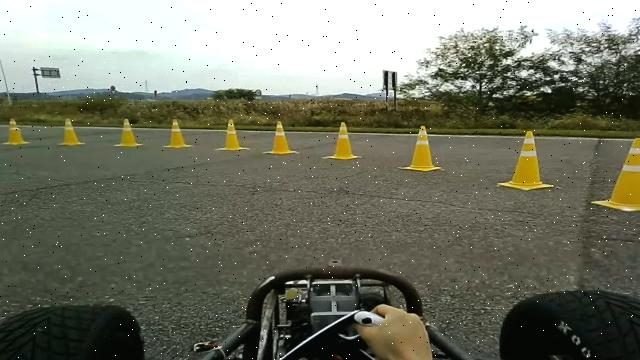yellow cone: (590, 137, 640, 212), (496, 130, 554, 190), (399, 125, 444, 172), (322, 121, 362, 160), (262, 120, 298, 154), (214, 118, 250, 150), (162, 118, 193, 148), (56, 117, 85, 146), (114, 118, 142, 147), (2, 118, 30, 144)
